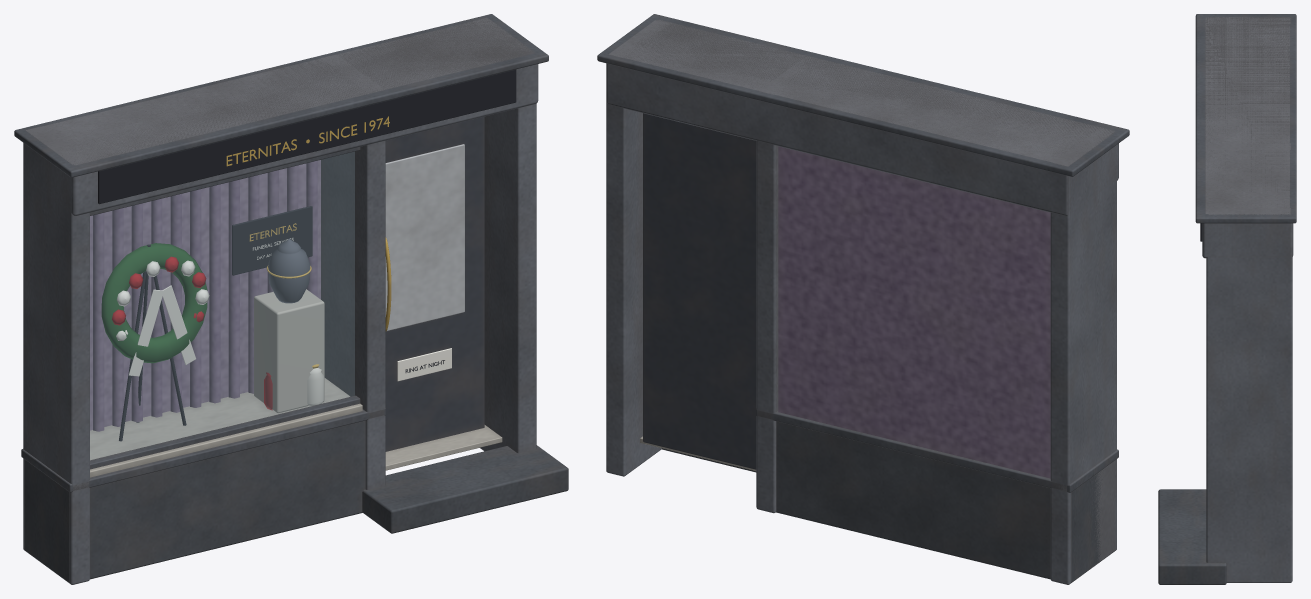
File: pogrzebowy_witryna.glb
3 renders of one model, left to right at view 1: azimuth 30°, elevation 25°; view 2: azimuth 150°, elevation 25°; view 3: azimuth 270°, elevation 25°, orthographic. The views are drawn at different scales.
Parts seen in each view (by area): view 1: Witryna, Szyby, Towar, Napisy; view 2: Witryna; view 3: Witryna.
Boxes of the visible parts, x1,y1,x2,y2 form: Witryna: [14, 14, 568, 584]; Szyby: [90, 152, 354, 459]; Towar: [98, 69, 516, 441]; Napisy: [226, 116, 444, 372]; Witryna: [597, 14, 1129, 584]; Witryna: [1158, 14, 1296, 584].
Bounding box in the file's own units: 2.98 × 2.5 × 0.85.
Materials: 14 (1 with a texture image).
